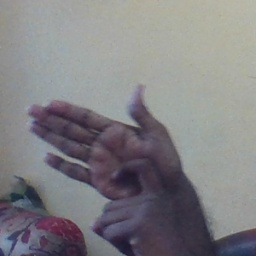R: (20, 76, 182, 243)
